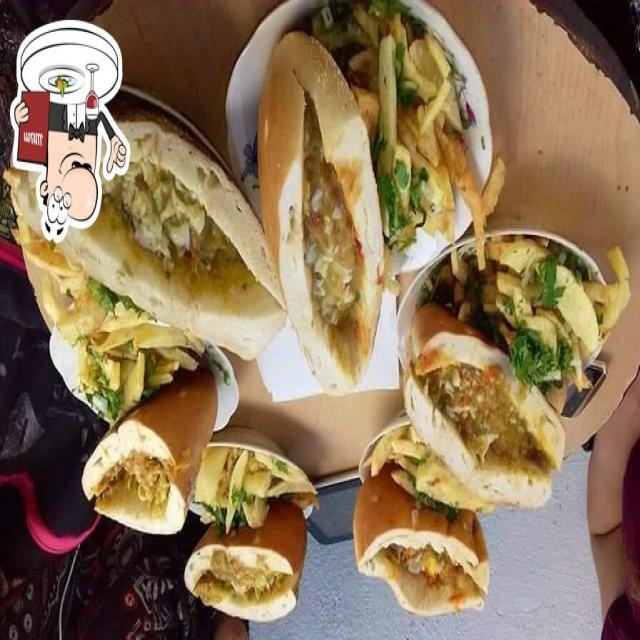Sandwitch tounsi: (62, 136, 260, 340), (269, 94, 396, 396), (407, 309, 565, 529), (358, 455, 495, 640), (194, 476, 320, 640), (85, 378, 205, 530)
